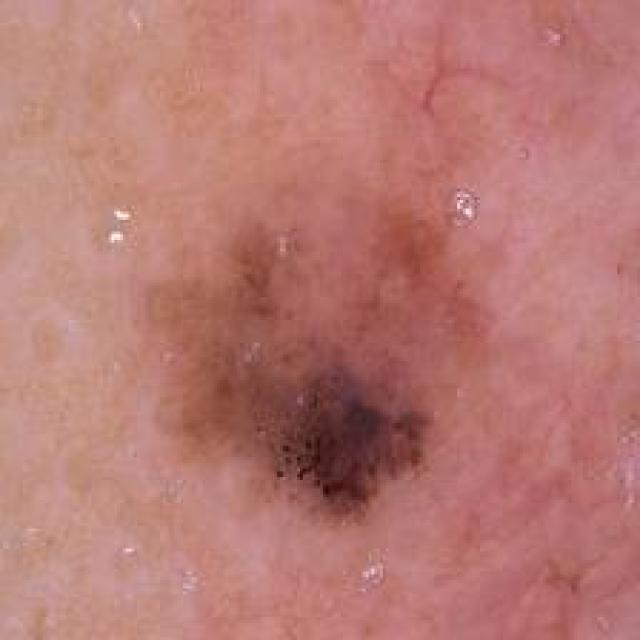Cancer: (125, 189, 493, 540)
